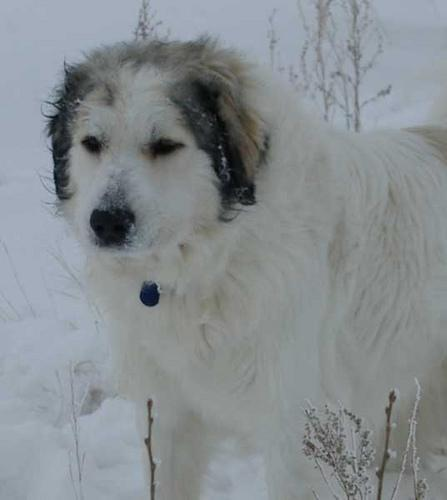Great_Pyrenees: (48, 40, 445, 498)
